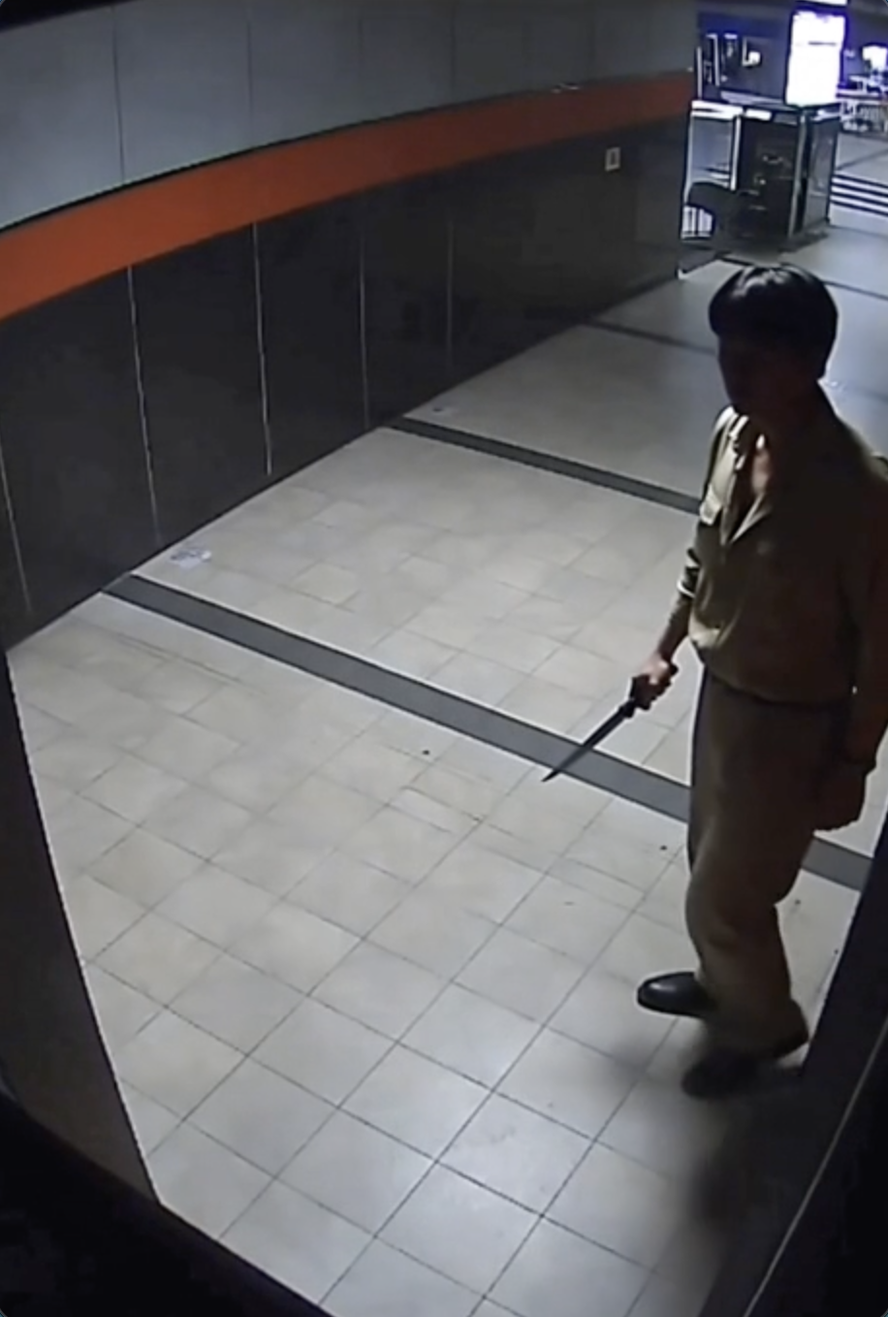Heavy Gun: (623, 255, 888, 1103)
Knife: (537, 652, 696, 788)
